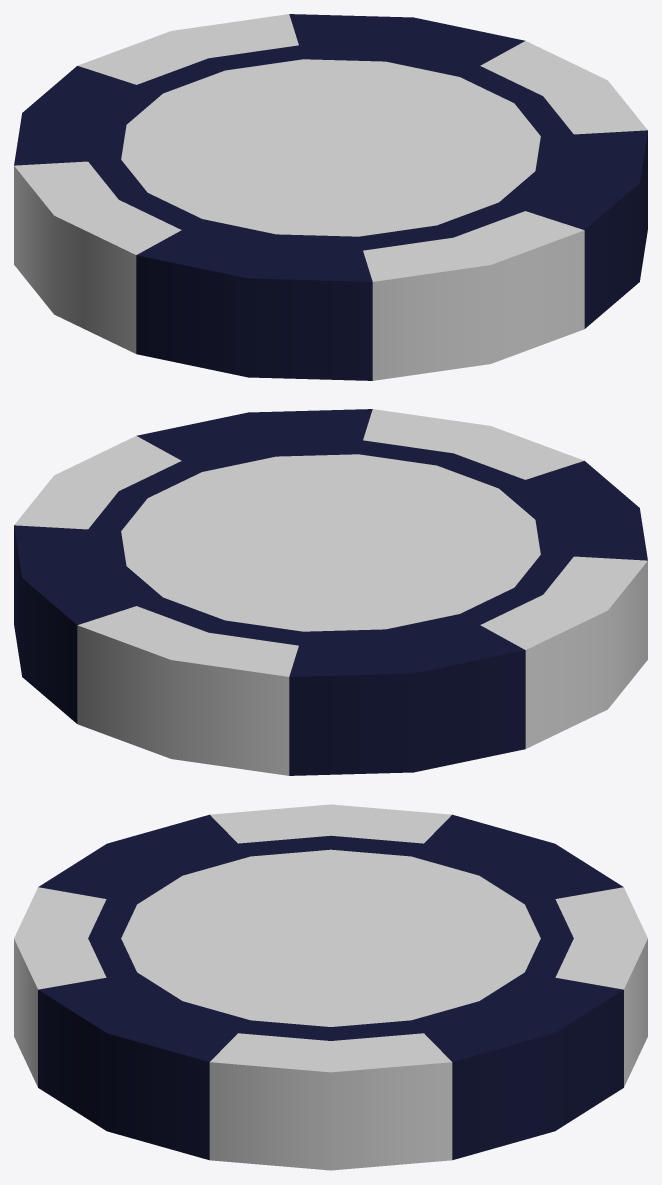
The model's file is darker_blue_chips.glb.
The picture shows the model from 3 angles, top to bottom: view 1: azimuth 30°, elevation 25°; view 2: azimuth 150°, elevation 25°; view 3: azimuth 270°, elevation 25°; orthographic projection.
Parts seen in each view (by area): view 1: Cylinder, Cylinder_Mat_0.001; view 2: Cylinder, Cylinder_Mat_0.001; view 3: Cylinder, Cylinder_Mat_0.001.
Boxes of the visible parts, left/top/right/bottom form: Cylinder: left=14, top=14, right=647, bottom=380; Cylinder_Mat_0.001: left=14, top=14, right=647, bottom=380; Cylinder: left=14, top=409, right=647, bottom=775; Cylinder_Mat_0.001: left=14, top=409, right=647, bottom=775; Cylinder: left=14, top=804, right=647, bottom=1170; Cylinder_Mat_0.001: left=38, top=814, right=623, bottom=1160.
Bounding box in the file's own units: 100 × 17.08 × 100.
